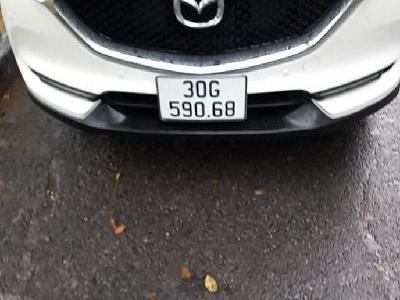lisence: (155, 75, 248, 121)
